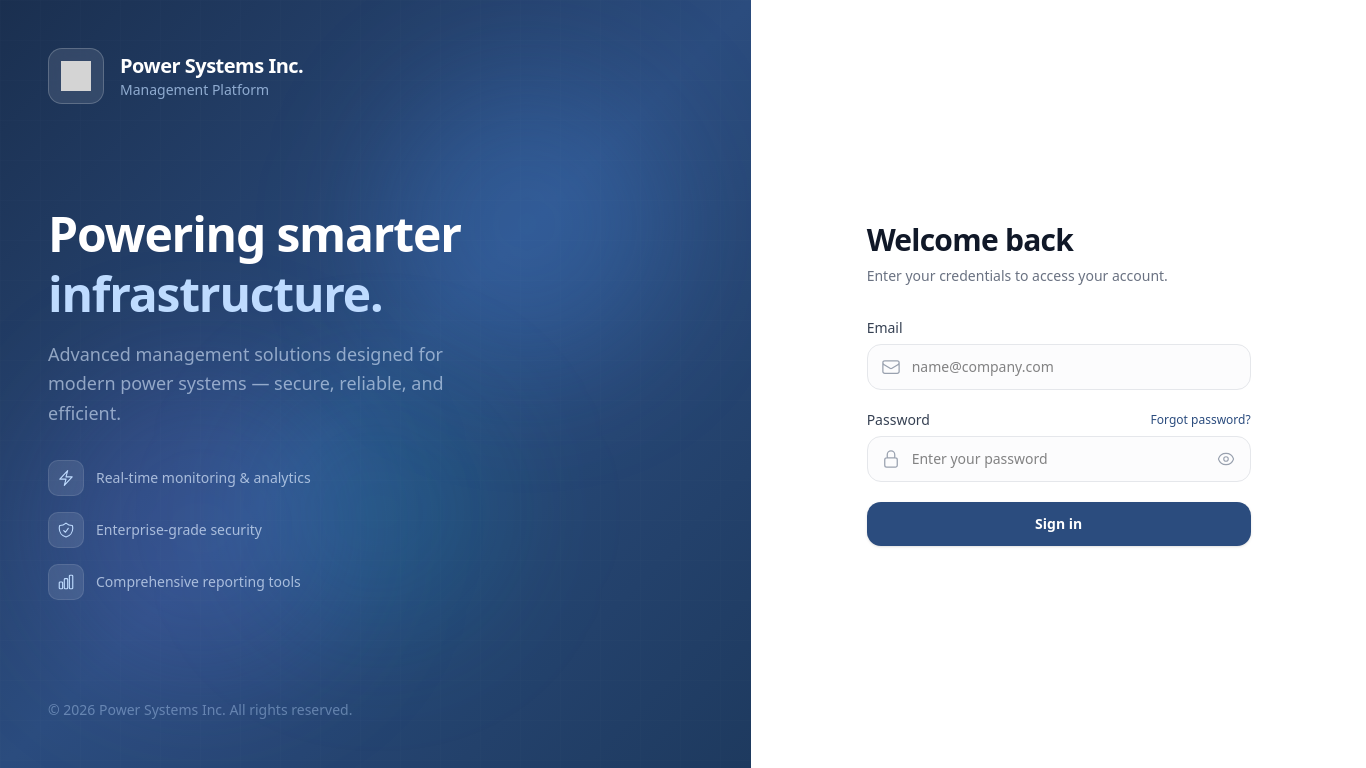
Scenario: AuthPage - Login Form › Form Submission - Errors › displays error message when login fails
In the field labelled "Email": (1059, 367) [867, 344, 1251, 390], type "wrong@example.com"
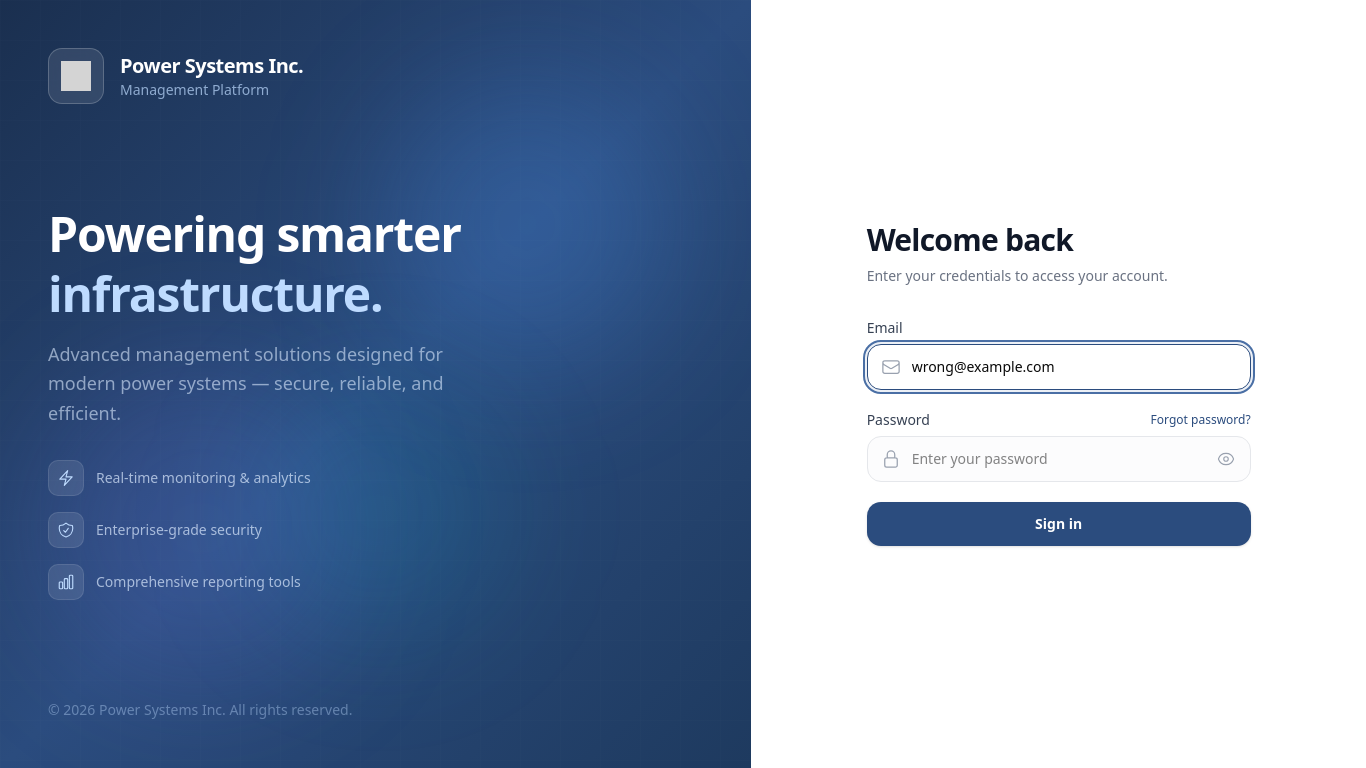
In the password field labelled "Password": (1059, 459) [867, 436, 1251, 482], type "wrongpassword"
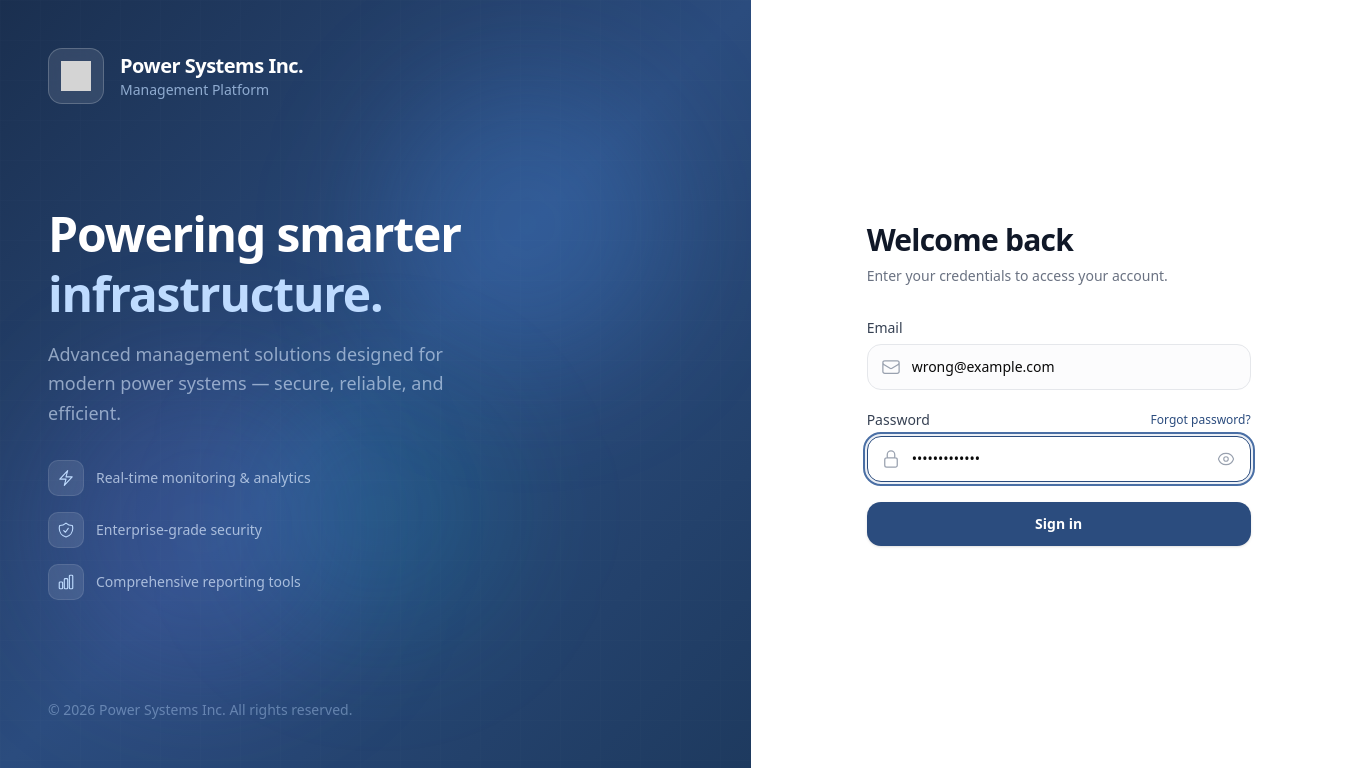
Click the button "Sign in": (1059, 524) [867, 502, 1251, 546]
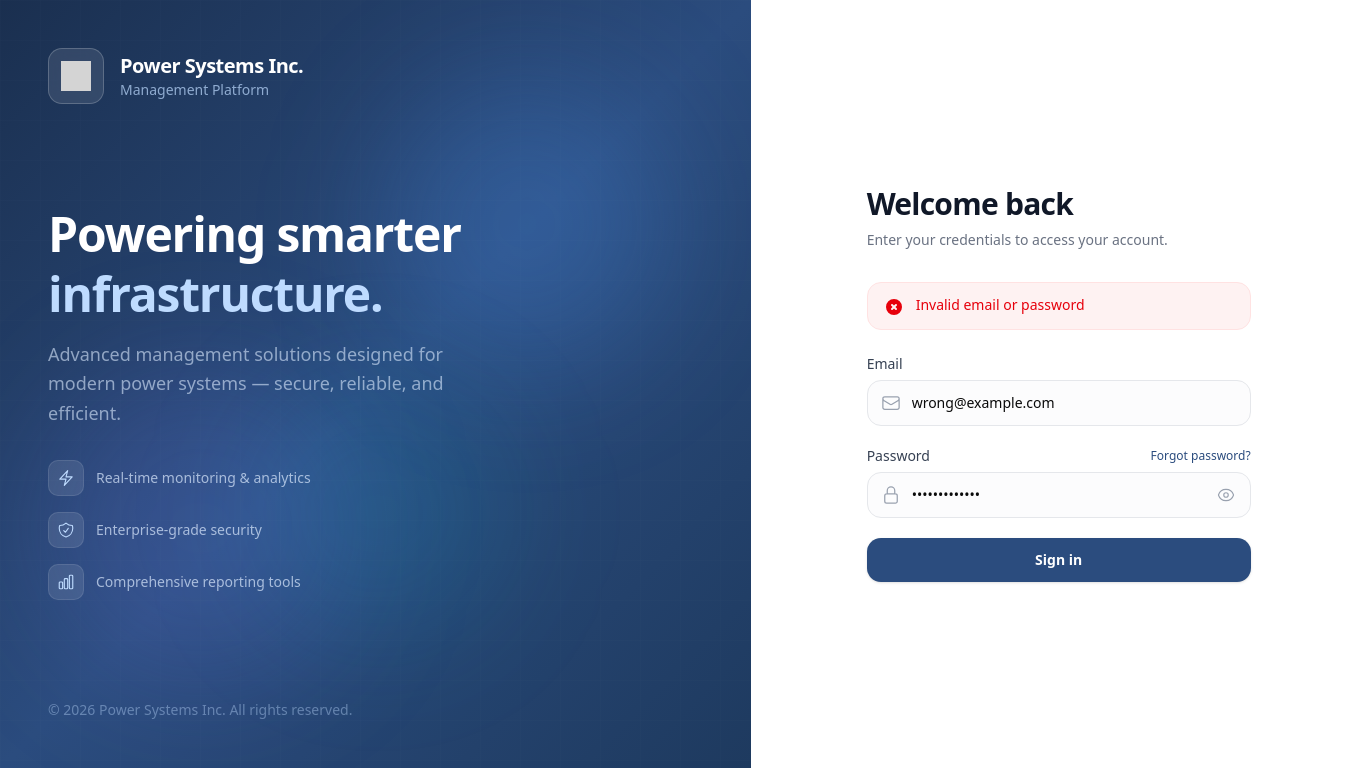
Expected: the text "Invalid email or password" is shown, [916, 295, 1084, 315]
